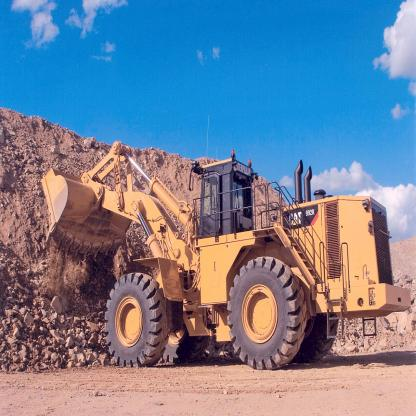bull_dozer/loader/grader: (34, 145, 416, 381)
